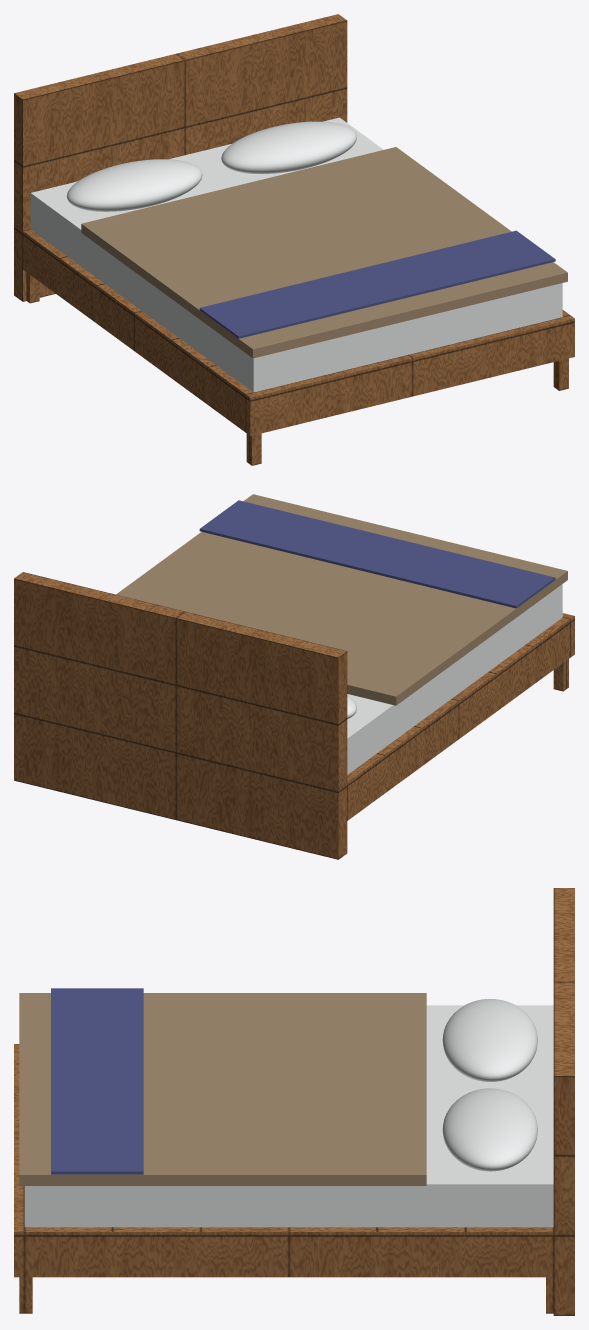
The model's file is Agy_ketszemelyes_160.obj.
3 renders of one model, top to bottom at view 1: azimuth 30°, elevation 25°; view 2: azimuth 150°, elevation 25°; view 3: azimuth 270°, elevation 25°, orthographic. The views are drawn at different scales.
Bounding box in the file's own units: 1.68 × 1 × 2.12.
4 materials, 1 textured.
